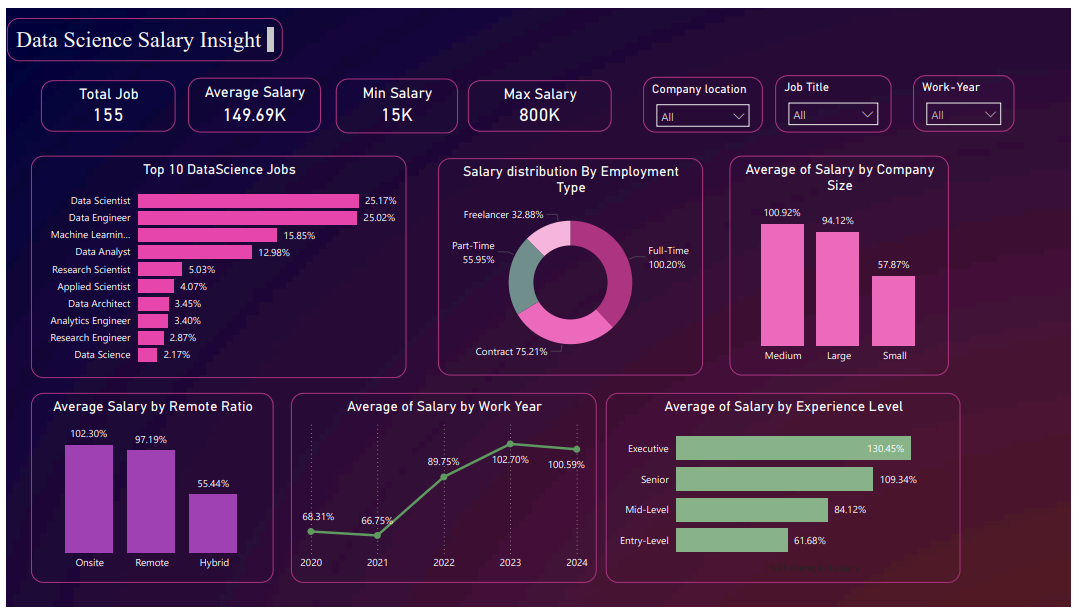

The page's visual inventory and layout, read from the dashboard file:
{"tool":"powerbi","page":{"name":"1ST DASHBAORD","canvas":[1280,720],"ordinal":0},"visuals":[{"type":"clusteredBarChart","title":"Top 10 DataScience Jobs","fields":{"Category":["Datasscience salaries 2023.job_title"],"Y":["Sum(Datasscience salaries 2023.salary)"]},"box":[29,177,452,268],"z":0},{"type":"lineChart","title":"Average of Salary by Work Year","fields":{"Category":["Datasscience salaries 2023.work_year"],"Y":["Avg(Datasscience salaries 2023.salary)"]},"box":[342,463,368,229],"z":1000},{"type":"barChart","title":"Average of Salary by Experience Level","fields":{"Category":["Datasscience salaries 2023.experience_level"],"Y":["Divide(Avg(Datasscience salaries 2023.salary), ScopedEval(Avg(Datasscience salaries 2023.salary), []))"]},"box":[721,463,427,229],"z":2000},{"type":"clusteredColumnChart","title":"Average of Salary by Company Size","fields":{"Y":["Sum(Datasscience salaries 2023.salary)"],"Category":["Datasscience salaries 2023.company_size"]},"box":[870,177,264,265],"z":3000},{"type":"donutChart","title":"Salary distribution By  Employment Type","fields":{"Y":["Sum(Datasscience salaries 2023.salary)"],"Category":["Datasscience salaries 2023.employment_type"]},"box":[519,180,319,262],"z":4000},{"type":"card","title":"Total  Job","fields":{"Values":["Count(Datasscience salaries 2023.job_title)"]},"box":[41,86,162,62],"z":5000},{"type":"card","title":"Max Salary","fields":{"Values":["Max(Datasscience salaries 2023.salary)"]},"box":[555,86,173,62],"z":6000},{"type":"card","title":"Min Salary","fields":{"Values":["Min(Datasscience salaries 2023.salary)"]},"box":[396,84,147,66],"z":7000},{"type":"card","title":"Average Salary","fields":{"Values":["Avg(Datasscience salaries 2023.salary)"]},"box":[218,83,160,66],"z":8000},{"type":"textbox","box":[0,11,332,52],"z":9000},{"type":"slicer","title":"Company location","fields":{"Values":["Datasscience salaries 2023.company_location"]},"box":[766,82,144,67],"z":10000},{"type":"slicer","title":"Work-Year","fields":{"Values":["Datasscience salaries 2023.job_title"]},"box":[1091,80,122,68],"z":11000},{"type":"slicer","title":"Job Title","fields":{"Values":["Datasscience salaries 2023.job_title"]},"box":[925,80,140,69],"z":12000},{"type":"clusteredColumnChart","title":"Average Salary by Remote Ratio","fields":{"Y":["Sum(Datasscience salaries 2023.salary)"],"Category":["Datasscience salaries 2023.remote_ratio"]},"box":[29,463,292,229],"z":13000}]}

Visuals, with their boxes in screenshot pixels (x1, y1, x2, y2), scaled from the page's 1280x720 canvas onto the 1085x615 screenshot:
"Top 10 DataScience Jobs" clusteredBarChart: <box>25,151,408,380</box>
"Average of Salary by Work Year" lineChart: <box>290,395,602,591</box>
"Average of Salary by Experience Level" barChart: <box>611,395,973,591</box>
"Average of Salary by Company Size" clusteredColumnChart: <box>737,151,961,378</box>
"Salary distribution By  Employment Type" donutChart: <box>440,154,710,378</box>
"Total  Job" card: <box>35,73,172,126</box>
"Max Salary" card: <box>470,73,617,126</box>
"Min Salary" card: <box>336,72,460,128</box>
"Average Salary" card: <box>185,71,320,127</box>
textbox: <box>0,9,281,54</box>
"Company location" slicer: <box>649,70,771,127</box>
"Work-Year" slicer: <box>925,68,1028,126</box>
"Job Title" slicer: <box>784,68,903,127</box>
"Average Salary by Remote Ratio" clusteredColumnChart: <box>25,395,272,591</box>
